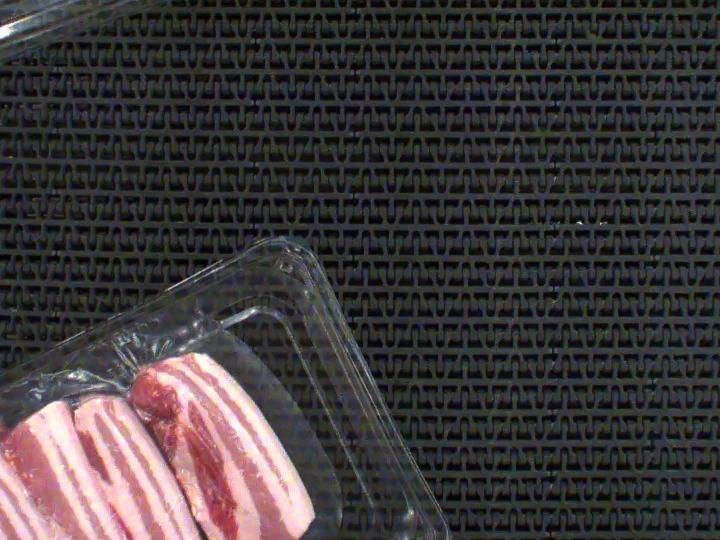unsealed: (0, 288, 384, 540)
